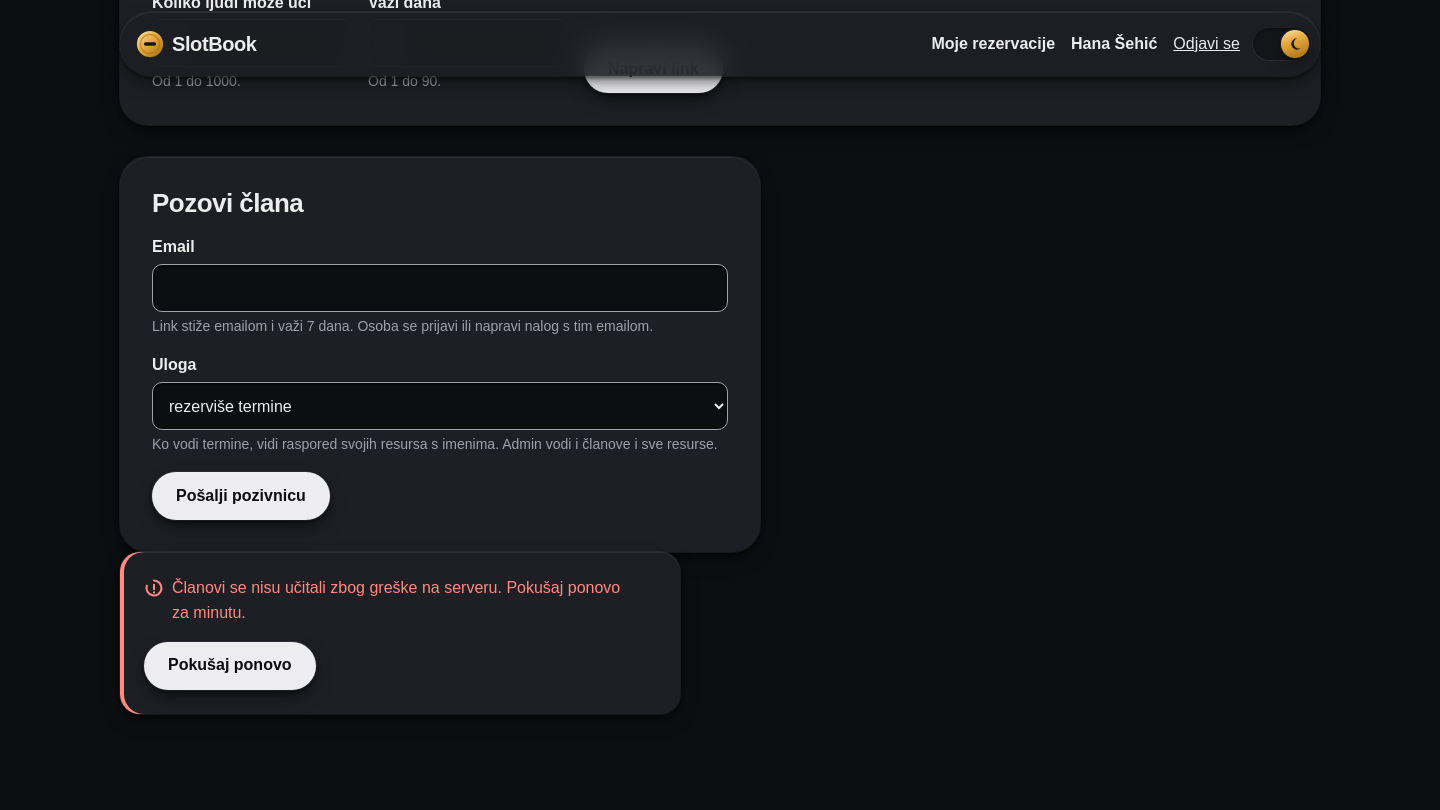
Scenario: lista članova › kad se lista ne učita, piše zašto i može se pokušati ponovo
The width and height of the screenshot is (1440, 810).
(page scrolled)
Expected: the message shows "Članovi se nisu učitali", left=172, top=579, right=620, bottom=621
Click the button "Pokušaj ponovo". click: (230, 666)
box: left=144, top=642, right=316, bottom=690
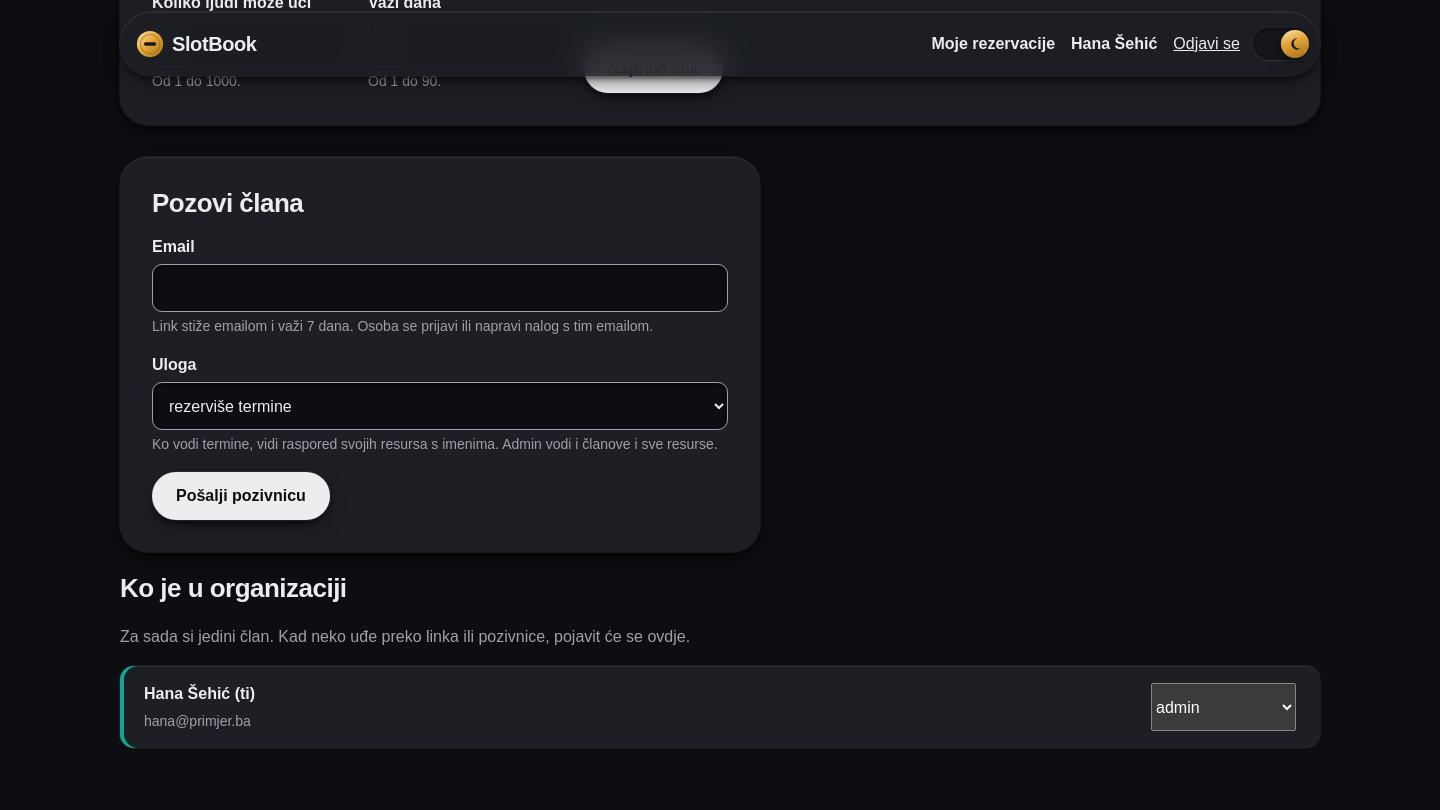
Result: the text "Hana Šehić" is shown at left=144, top=685, right=230, bottom=702
